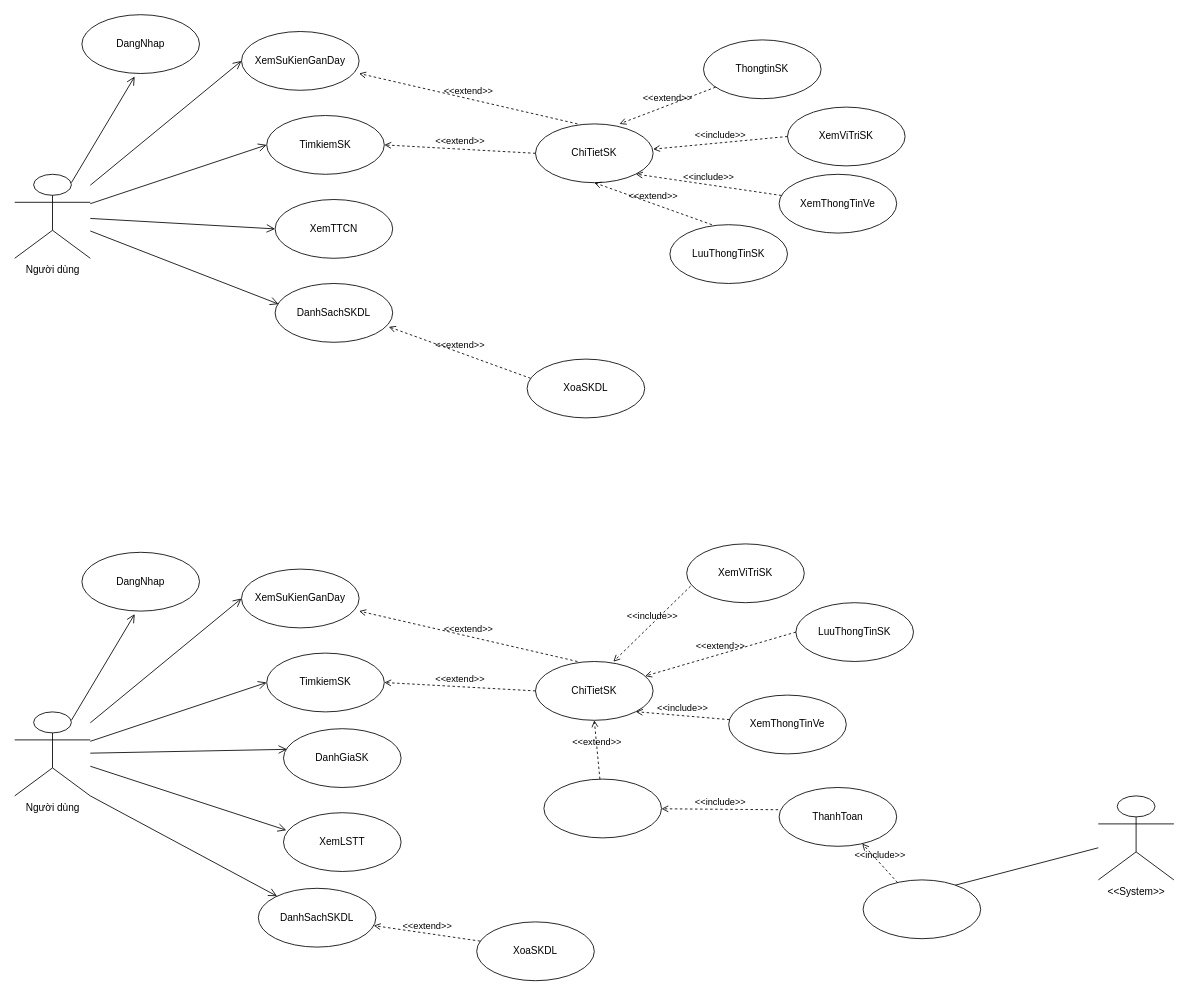
The diagram is 1189 pixels wide and 995 high, and some of its shapes have lost their labels. Here are the shapes that lost their labels. From the top down, the centre of each, then its label:
point (602, 808): MuaVe
point (921, 909): GuiHoaDon
